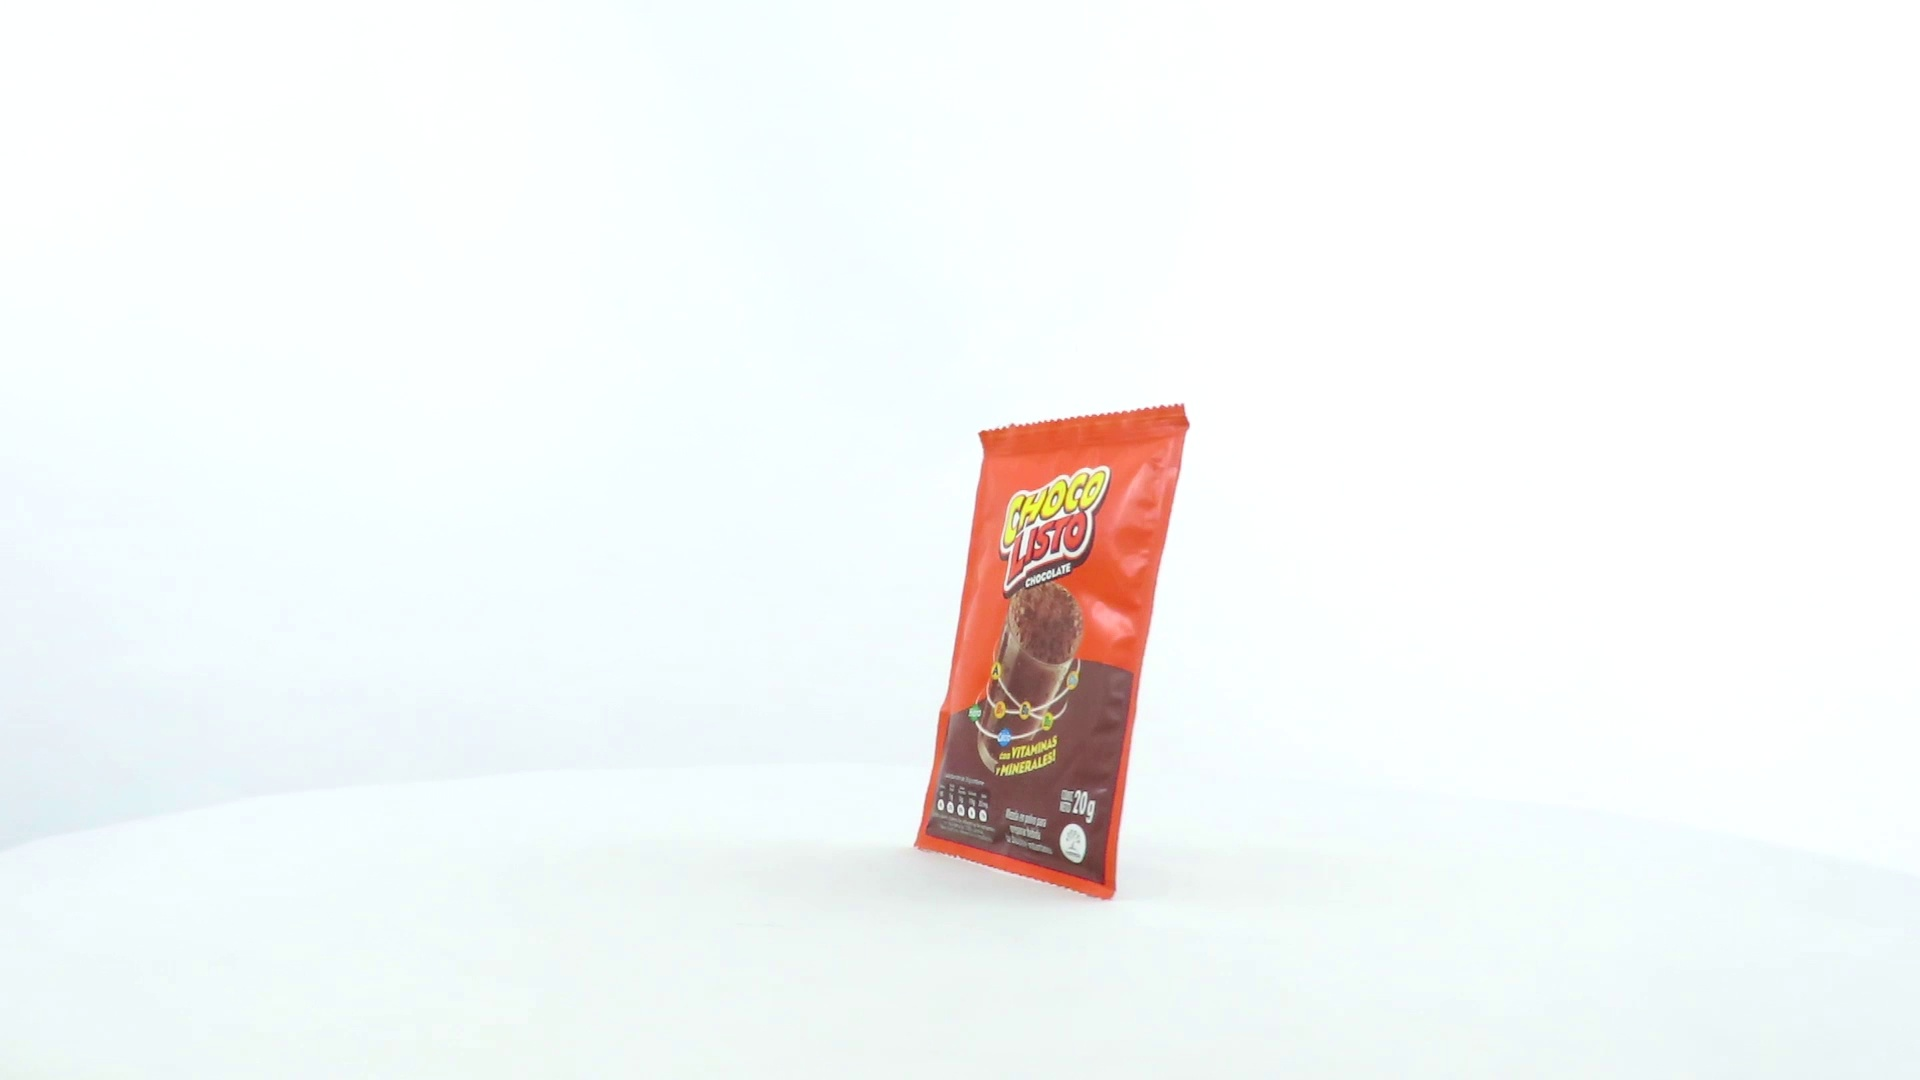COL0170103SOB02000: (909, 398, 1196, 907)
